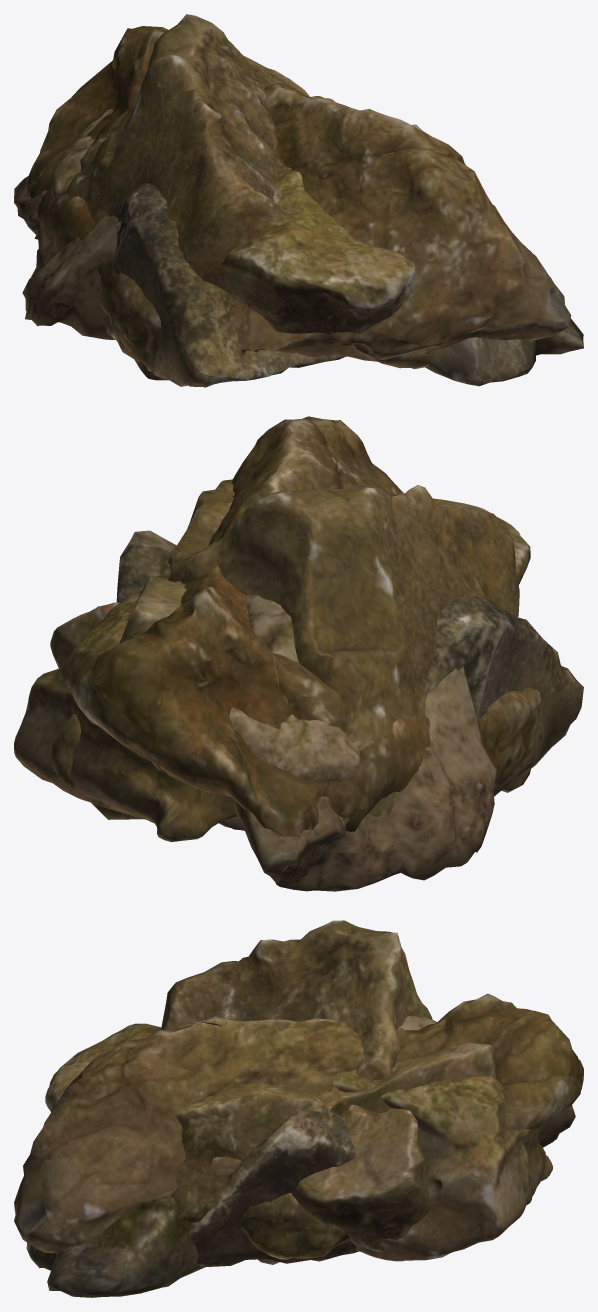
Rendered from rock_moss_set_01.fbx.
The picture shows the model from 3 angles, top to bottom: view 1: azimuth 30°, elevation 25°; view 2: azimuth 150°, elevation 25°; view 3: azimuth 270°, elevation 25°; orthographic projection. The views are drawn at different scales.
Visible parts, largest first — view 1: rock_moss_set_01_rock01.001, rock_moss_set_01_rock04.001, rock_moss_set_01_rock05.001, rock_moss_set_01_rock03.001, rock_moss_set_01_rock02.001, rock_moss_set_01_rock06.001; view 2: rock_moss_set_01_rock01.001, rock_moss_set_01_rock04.001, rock_moss_set_01_rock02.001, rock_moss_set_01_rock05.001, rock_moss_set_01_rock03.001, rock_moss_set_01_rock06.001; view 3: rock_moss_set_01_rock01.001, rock_moss_set_01_rock04.001, rock_moss_set_01_rock05.001, rock_moss_set_01_rock06.001, rock_moss_set_01_rock02.001, rock_moss_set_01_rock03.001.
Boxes of the visible parts, left/top/right/bottom form: rock_moss_set_01_rock01.001: left=26, top=26, right=571, bottom=380; rock_moss_set_01_rock04.001: left=54, top=14, right=324, bottom=299; rock_moss_set_01_rock05.001: left=51, top=109, right=415, bottom=356; rock_moss_set_01_rock03.001: left=105, top=124, right=430, bottom=387; rock_moss_set_01_rock02.001: left=14, top=125, right=583, bottom=386; rock_moss_set_01_rock06.001: left=244, top=56, right=436, bottom=369; rock_moss_set_01_rock01.001: left=67, top=416, right=540, bottom=846; rock_moss_set_01_rock04.001: left=50, top=485, right=519, bottom=817; rock_moss_set_01_rock02.001: left=232, top=548, right=496, bottom=891; rock_moss_set_01_rock05.001: left=14, top=498, right=530, bottom=842; rock_moss_set_01_rock03.001: left=116, top=530, right=583, bottom=830; rock_moss_set_01_rock06.001: left=51, top=472, right=276, bottom=819; rock_moss_set_01_rock01.001: left=14, top=993, right=583, bottom=1264; rock_moss_set_01_rock04.001: left=161, top=920, right=432, bottom=1252; rock_moss_set_01_rock05.001: left=45, top=1023, right=552, bottom=1261; rock_moss_set_01_rock06.001: left=166, top=1042, right=532, bottom=1259; rock_moss_set_01_rock02.001: left=26, top=1014, right=575, bottom=1297; rock_moss_set_01_rock03.001: left=188, top=1109, right=358, bottom=1267.
Bounding box in the file's own units: 2.65 × 1.77 × 3.37.
1 material, 1 textured.
